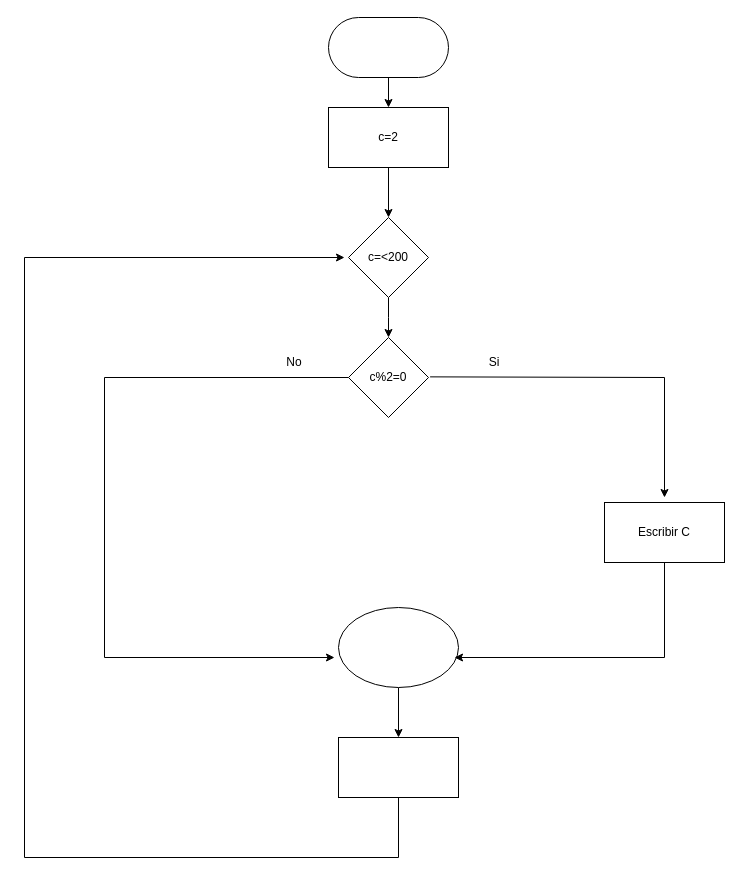
This 742x883 diagram has some shape labels left out. The shapes that lost their labels are listed below. From the top down, each one's box as (x1, y1, x2, y2) in pixels, then its label:
(328, 16, 448, 78): Inicio
(338, 736, 458, 798): c= c+1
